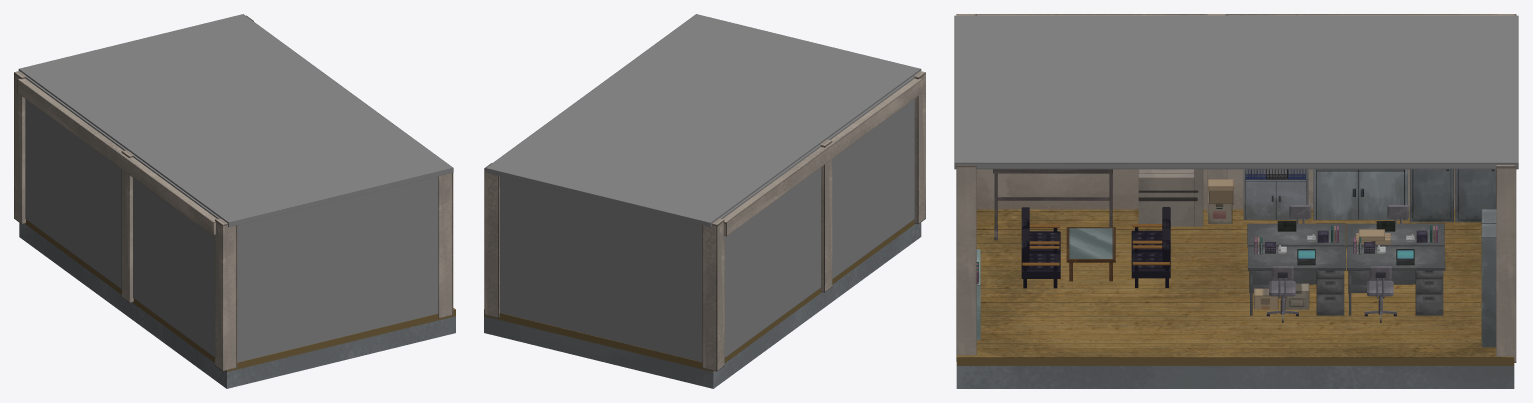
The model's file is company01.fbx.
3 renders of one model, left to right at view 1: azimuth 30°, elevation 25°; view 2: azimuth 150°, elevation 25°; view 3: azimuth 270°, elevation 25°, orthographic. The views are drawn at different scales.
Parts seen in each view (by area): view 1: Cube.122, Cube.109, Cube.108, Cube.096, Cube.182, Cube.002, Cube.026, Cube.001, Cube.102; view 2: Cube.122, Cube.110, Cube.108, Cube.096, Cube.182, Cube.001, Cube.025, Cube.002, Cube.102; view 3: Cube.122, Cube.096, Cube.108, Cube.100, Cube.025, Cube.026, Cube.027, Cube.203, Cube.101, Cube.099, Cube.197, Cube.076 (+14 smaller).
Part boxes in pixels (<box>): Cube.122: <box>18,14,453,227</box>; Cube.109: <box>237,176,438,362</box>; Cube.108: <box>25,76,219,357</box>; Cube.096: <box>19,219,455,388</box>; Cube.182: <box>17,78,216,235</box>; Cube.002: <box>215,218,237,371</box>; Cube.026: <box>438,172,453,318</box>; Cube.001: <box>14,71,26,223</box>; Cube.102: <box>121,150,134,302</box>; Cube.122: <box>485,14,921,227</box>; Cube.110: <box>500,176,702,361</box>; Cube.108: <box>719,76,914,357</box>; Cube.096: <box>484,220,921,388</box>; Cube.182: <box>723,78,922,236</box>; Cube.001: <box>702,218,724,371</box>; Cube.025: <box>484,163,499,318</box>; Cube.002: <box>913,71,925,224</box>; Cube.102: <box>819,139,832,292</box>; Cube.122: <box>954,15,1518,169</box>; Cube.096: <box>956,209,1514,388</box>; Cube.108: <box>976,169,1455,209</box>; Cube.100: <box>1313,169,1407,219</box>; Cube.025: <box>1496,165,1516,362</box>; Cube.026: <box>956,165,976,361</box>; Cube.027: <box>1346,246,1445,315</box>; Cube.203: <box>1248,246,1346,315</box>; Cube.101: <box>1138,169,1203,226</box>; Cube.099: <box>1243,169,1308,219</box>; Cube.197: <box>1410,169,1453,222</box>; Cube.076: <box>1455,169,1496,222</box>.
Size of the model in its own units: 283 by 191 by 436.
